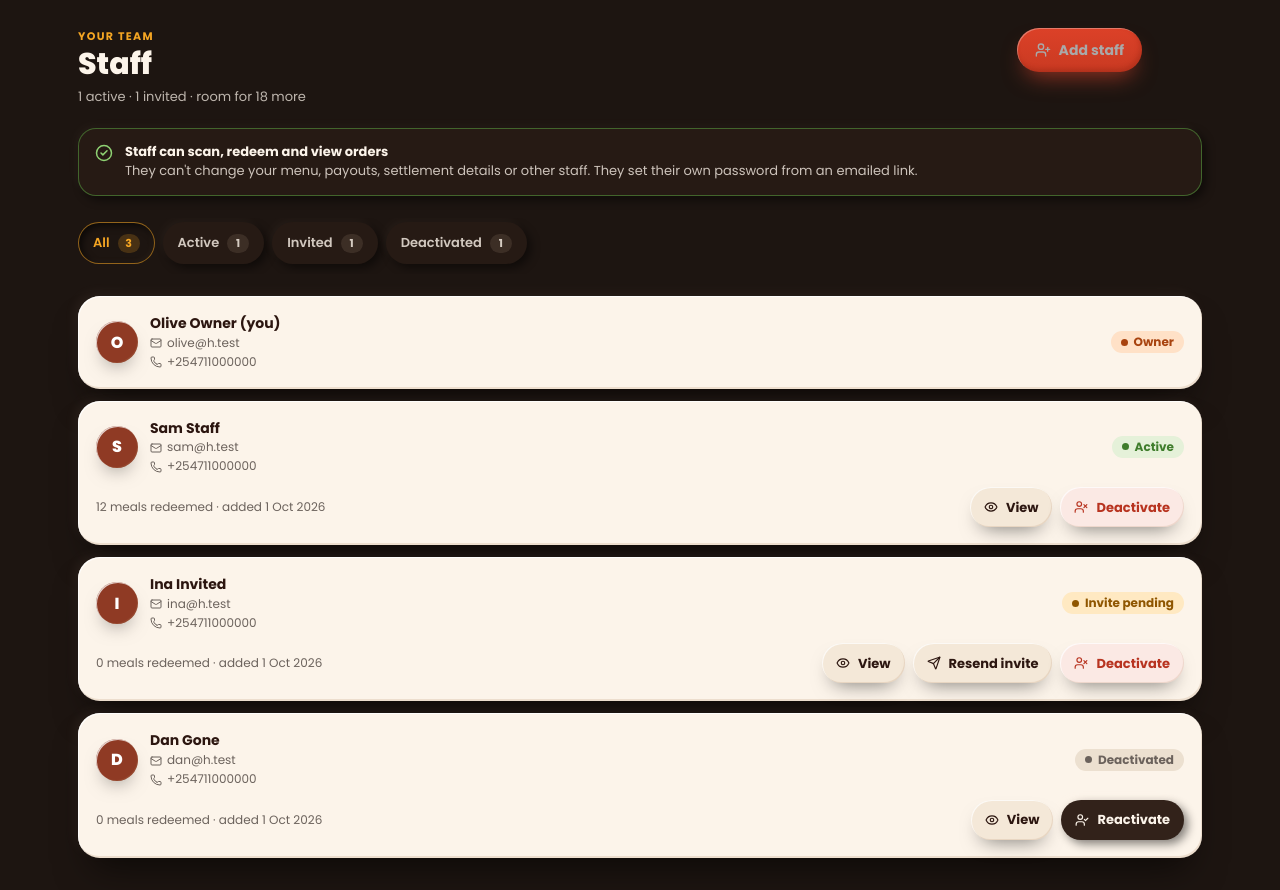
Test: HotelStaffManageScreen › the account exists but the email failed: an honest warning, not a success toast
Expected: the text "Sam Staff" is shown, 150,418 -> 220,438
Click the button "Add staff" at (1079, 50), box 1017,28 -> 1142,72
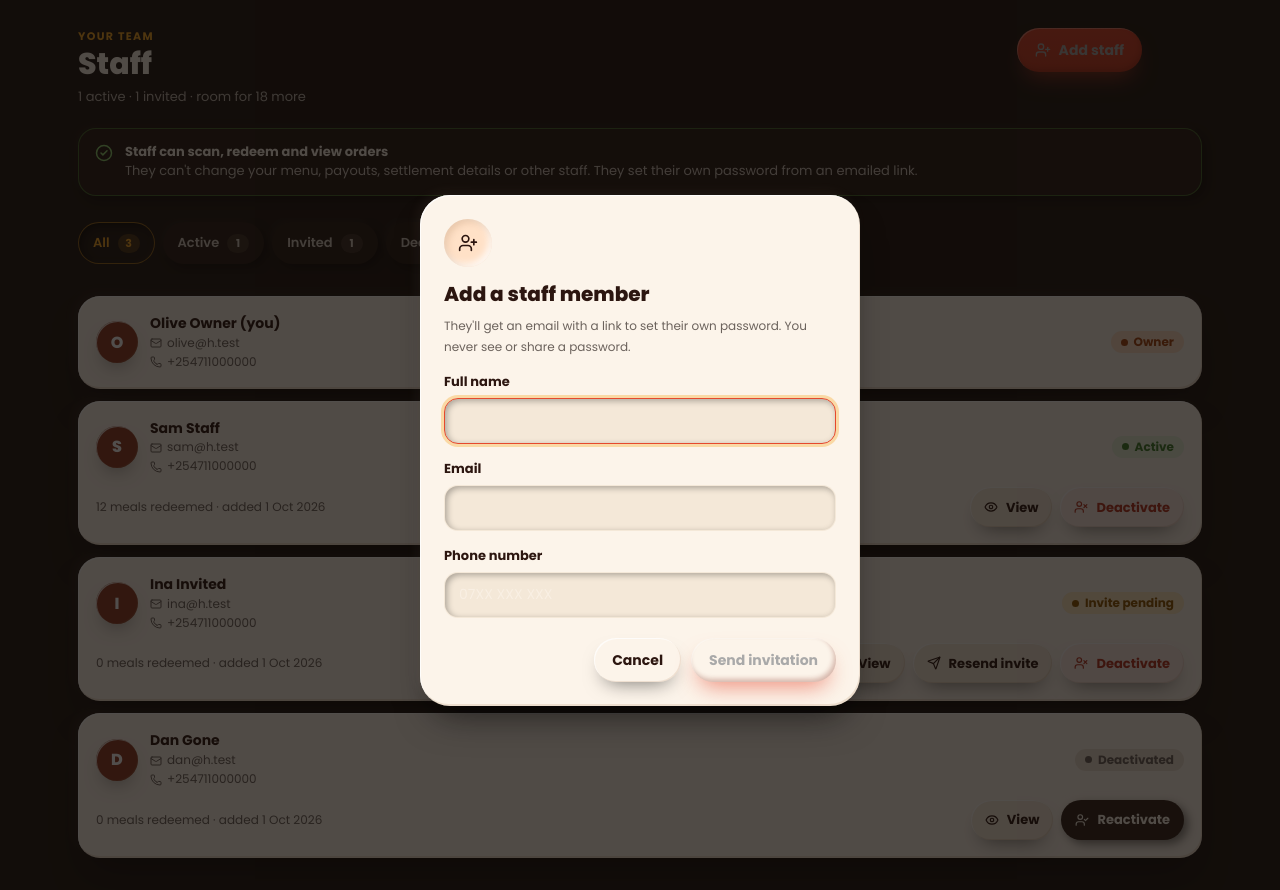
Type "New Person" into the field labelled "Full name" at (640, 420), box 444,398 -> 836,444
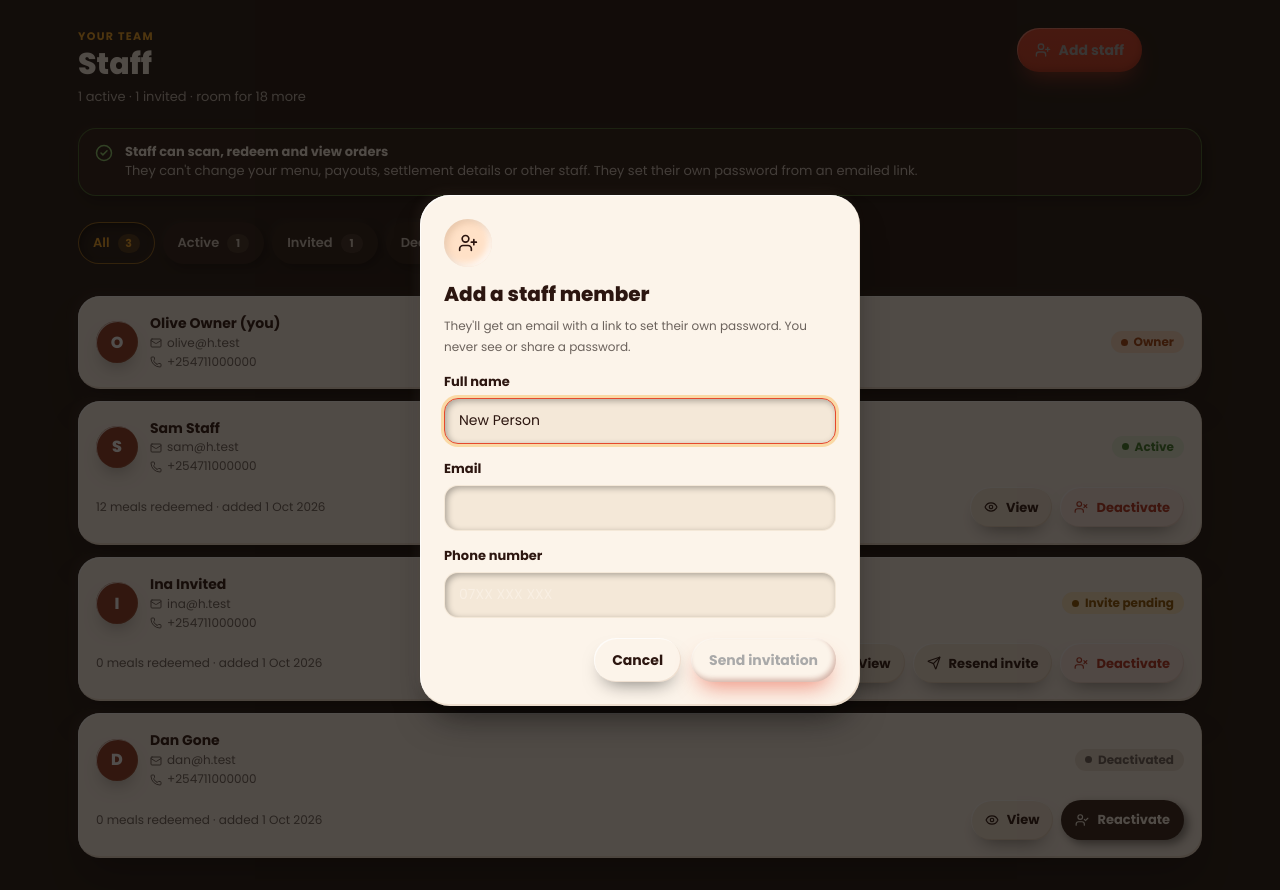
Type "new@h.test" into the field labelled "Email" at (640, 508), box 444,484 -> 836,530
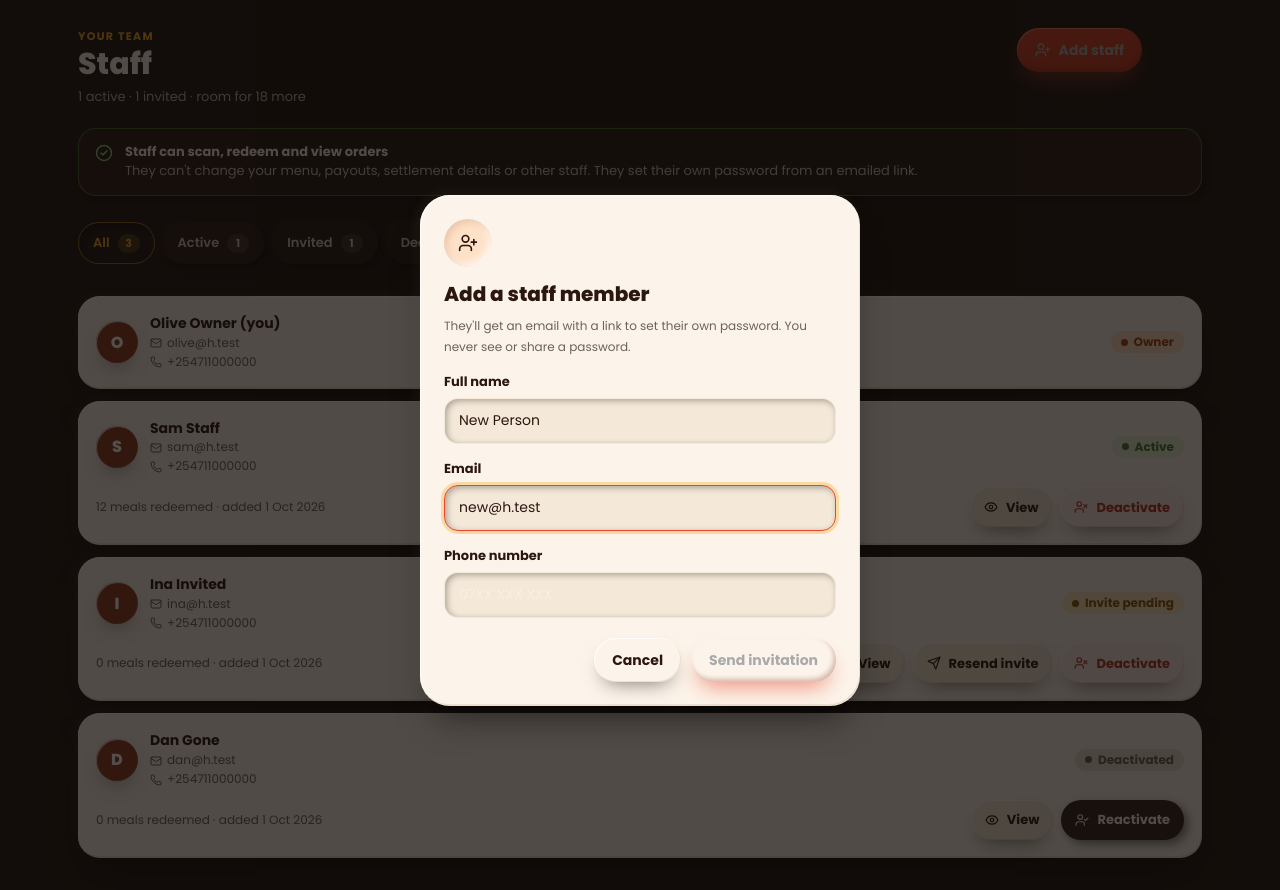
Type "0712345678" into the field labelled "Phone number" at (640, 594), box 444,572 -> 836,618
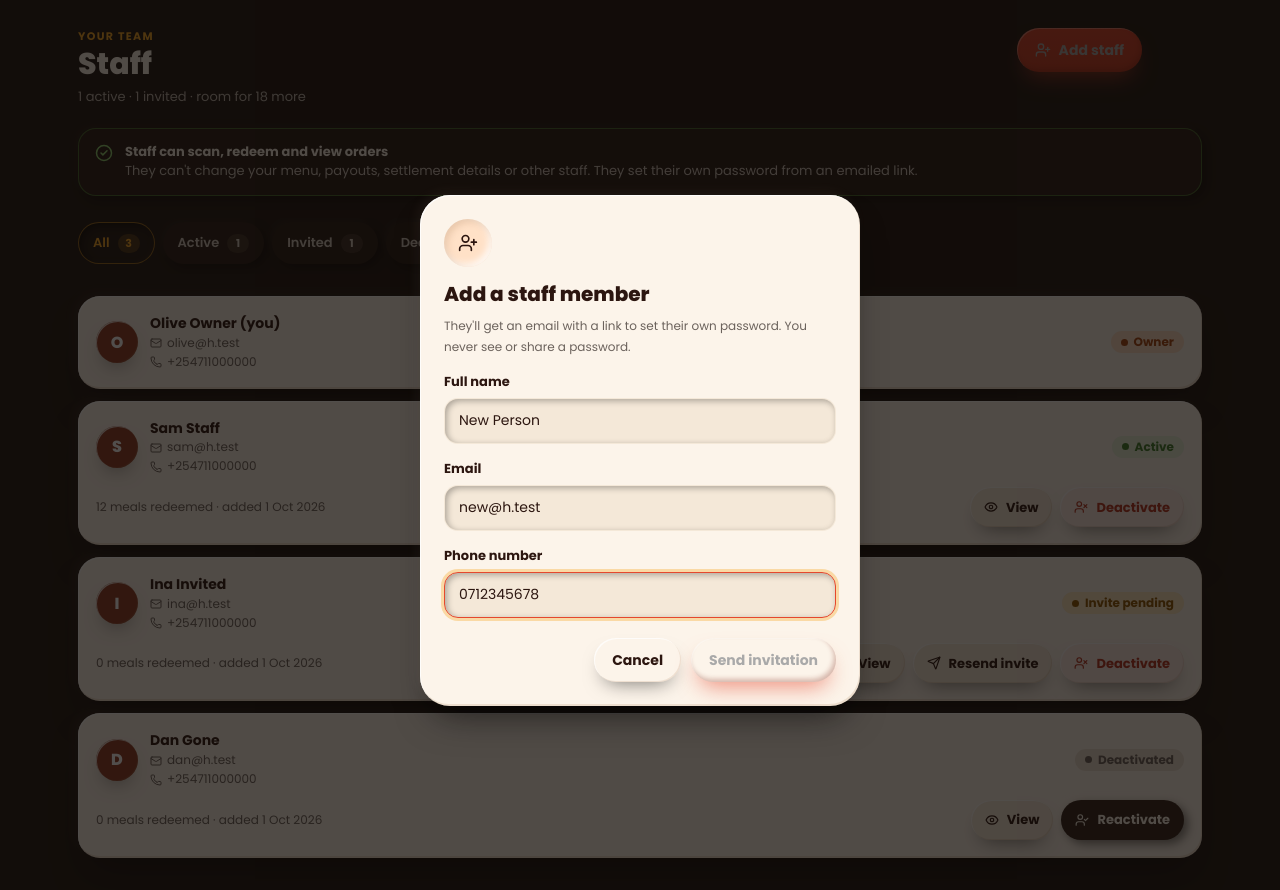
Click the button "Send invitation" at (764, 660), box 691,638 -> 836,682
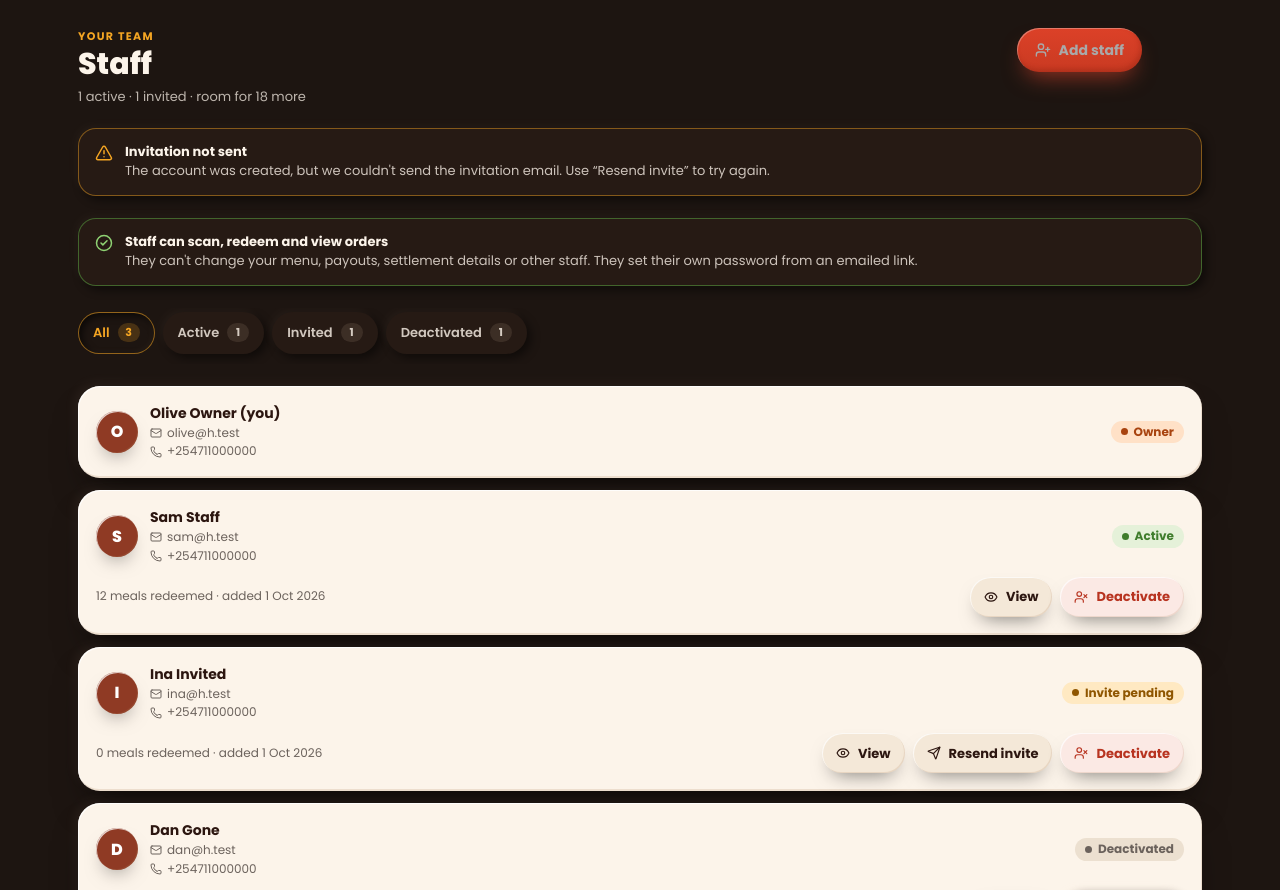
Now the text "couldn't send the invitation email" is shown, box 125,161 -> 770,180
